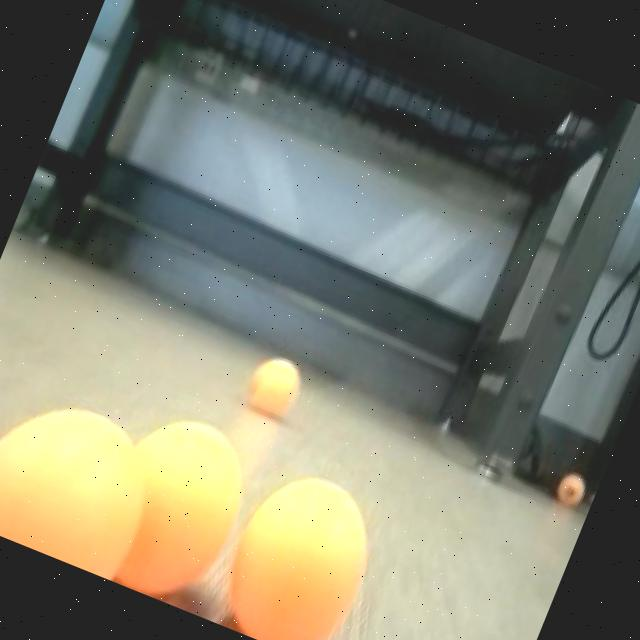ping-pong-ball: (84, 397, 273, 618), (209, 447, 407, 640), (0, 376, 163, 579), (232, 342, 314, 428), (550, 465, 594, 519)
